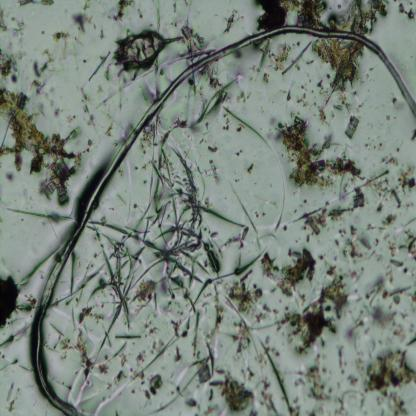Background material: (132, 149, 226, 310), (270, 115, 366, 198), (0, 85, 77, 173), (86, 215, 139, 335), (272, 272, 346, 346), (311, 39, 363, 128), (173, 66, 234, 129), (264, 337, 302, 416), (261, 243, 314, 298), (208, 363, 258, 413), (226, 182, 262, 250), (361, 348, 416, 392), (368, 168, 415, 211), (226, 272, 268, 318), (18, 245, 58, 288), (302, 364, 336, 408), (342, 0, 390, 31), (366, 306, 404, 345), (334, 226, 372, 264), (76, 251, 102, 305), (138, 113, 168, 156), (206, 280, 227, 340), (248, 0, 292, 28), (0, 270, 21, 327), (228, 315, 253, 360), (292, 0, 330, 29), (44, 322, 73, 360), (91, 380, 123, 414), (97, 76, 131, 108), (190, 336, 217, 376), (282, 39, 312, 75), (136, 274, 163, 312), (229, 248, 263, 278), (0, 48, 26, 85), (364, 274, 393, 306), (330, 387, 362, 416), (314, 200, 348, 226), (257, 374, 278, 416), (69, 378, 96, 410), (74, 332, 92, 380), (88, 47, 113, 81), (0, 322, 34, 346), (131, 348, 147, 394), (168, 315, 193, 344), (343, 308, 368, 336), (271, 39, 292, 71), (200, 156, 222, 186), (69, 251, 77, 331), (149, 338, 170, 367), (200, 64, 221, 92), (69, 10, 93, 34), (79, 307, 104, 330), (183, 41, 216, 58), (401, 226, 416, 262), (108, 0, 133, 21), (54, 29, 72, 57), (74, 138, 92, 166), (142, 372, 160, 400), (225, 9, 245, 33), (391, 390, 409, 416), (114, 352, 128, 385), (179, 366, 194, 396), (259, 38, 272, 72), (230, 227, 250, 249), (170, 116, 194, 134), (40, 60, 64, 78), (18, 293, 38, 314), (0, 353, 20, 374), (388, 282, 407, 304), (193, 310, 201, 362), (397, 1, 416, 22), (20, 1, 54, 12), (6, 378, 19, 406), (378, 211, 397, 230), (12, 14, 25, 41), (387, 96, 406, 114), (343, 266, 362, 284), (100, 346, 111, 377), (82, 103, 95, 129), (237, 366, 258, 382), (51, 376, 75, 390), (256, 193, 278, 208), (148, 400, 171, 414), (76, 85, 93, 103), (139, 80, 149, 109), (336, 345, 346, 374), (20, 184, 33, 206), (143, 314, 158, 333), (156, 62, 171, 81), (115, 333, 143, 343), (32, 76, 46, 96), (204, 400, 221, 416), (383, 154, 400, 170), (147, 82, 162, 100), (370, 249, 386, 265), (250, 350, 266, 366), (198, 122, 209, 144), (322, 259, 335, 277), (235, 68, 245, 91), (220, 114, 232, 133), (170, 383, 184, 399), (347, 373, 362, 387), (295, 93, 309, 108), (0, 6, 8, 32), (330, 13, 342, 30), (46, 86, 56, 106), (164, 34, 184, 44), (316, 74, 325, 96), (252, 208, 268, 220), (102, 120, 112, 139), (390, 258, 407, 269), (169, 15, 183, 28), (285, 84, 294, 103), (176, 343, 184, 364), (192, 32, 204, 46), (235, 92, 249, 104), (375, 398, 384, 416), (388, 241, 398, 257), (186, 398, 199, 410), (44, 47, 53, 64), (33, 60, 41, 78), (51, 106, 62, 118), (67, 112, 77, 125), (409, 290, 416, 308), (207, 387, 215, 402), (18, 364, 32, 372), (207, 143, 218, 153), (406, 337, 416, 348), (236, 122, 246, 133), (367, 222, 378, 232), (83, 0, 93, 11), (263, 71, 271, 84), (234, 147, 244, 157), (74, 36, 84, 46), (234, 50, 243, 61), (311, 94, 317, 110), (170, 0, 177, 13), (300, 81, 308, 92), (6, 170, 14, 181), (246, 408, 257, 416), (118, 168, 127, 177), (96, 84, 104, 94), (278, 87, 288, 95), (137, 8, 143, 21), (193, 8, 200, 19), (247, 162, 254, 173), (306, 70, 312, 82), (410, 130, 416, 142), (104, 102, 109, 116), (282, 223, 289, 232), (401, 267, 410, 274), (308, 58, 314, 68), (317, 254, 324, 262), (100, 26, 104, 39), (374, 236, 379, 246), (384, 232, 390, 240), (296, 40, 302, 48), (306, 234, 311, 243), (113, 409, 119, 416), (326, 70, 330, 80), (252, 62, 256, 72), (337, 4, 342, 10), (213, 12, 218, 17), (189, 0, 193, 6), (41, 29, 44, 36), (83, 59, 87, 64), (302, 226, 306, 231), (93, 24, 96, 30), (185, 0, 188, 6), (311, 89, 314, 93)
Diatom: (50, 157, 74, 185), (344, 112, 359, 140), (15, 92, 30, 112), (56, 184, 71, 203), (44, 181, 57, 200), (352, 193, 366, 209), (198, 366, 210, 384), (308, 220, 321, 235), (182, 26, 194, 42), (315, 157, 327, 171)
Glass filter fibre: (218, 103, 288, 238), (0, 198, 71, 230), (154, 0, 162, 35)
Microfibre: (33, 29, 416, 416)
